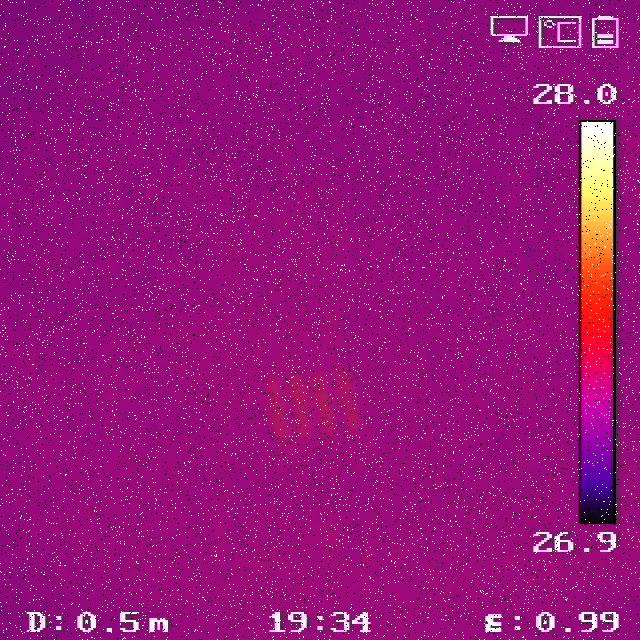threshold 4-bar target: (264, 372, 364, 440)
